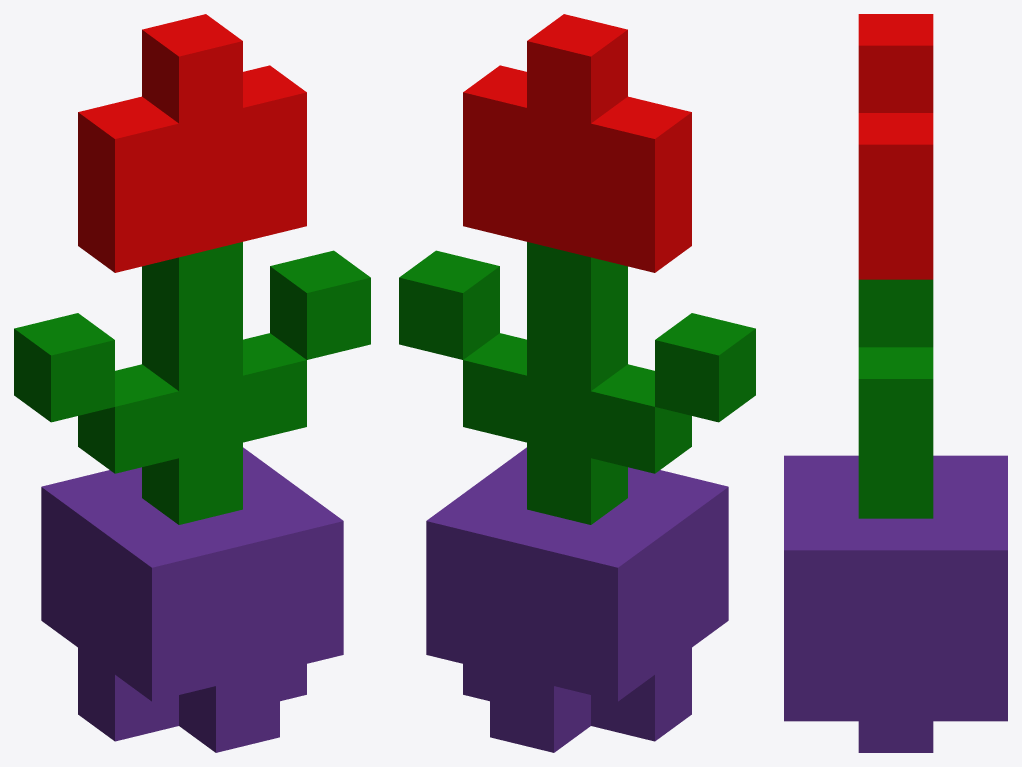
File: flower_pot_Purple.obj
3 renders of one model, left to right at view 1: azimuth 30°, elevation 25°; view 2: azimuth 150°, elevation 25°; view 3: azimuth 270°, elevation 25°, orthographic.
Visible parts, largest first — view 1: flower_pot_Purple; view 2: flower_pot_Purple; view 3: flower_pot_Purple.
Boxes of the visible parts, x1,y1,x2,y2 form: flower_pot_Purple: (14, 14, 370, 752); flower_pot_Purple: (399, 14, 755, 752); flower_pot_Purple: (784, 14, 1007, 752).
Size of the model in its own units: 5 by 10 by 3.
Materials: 1 (1 with a texture image).
